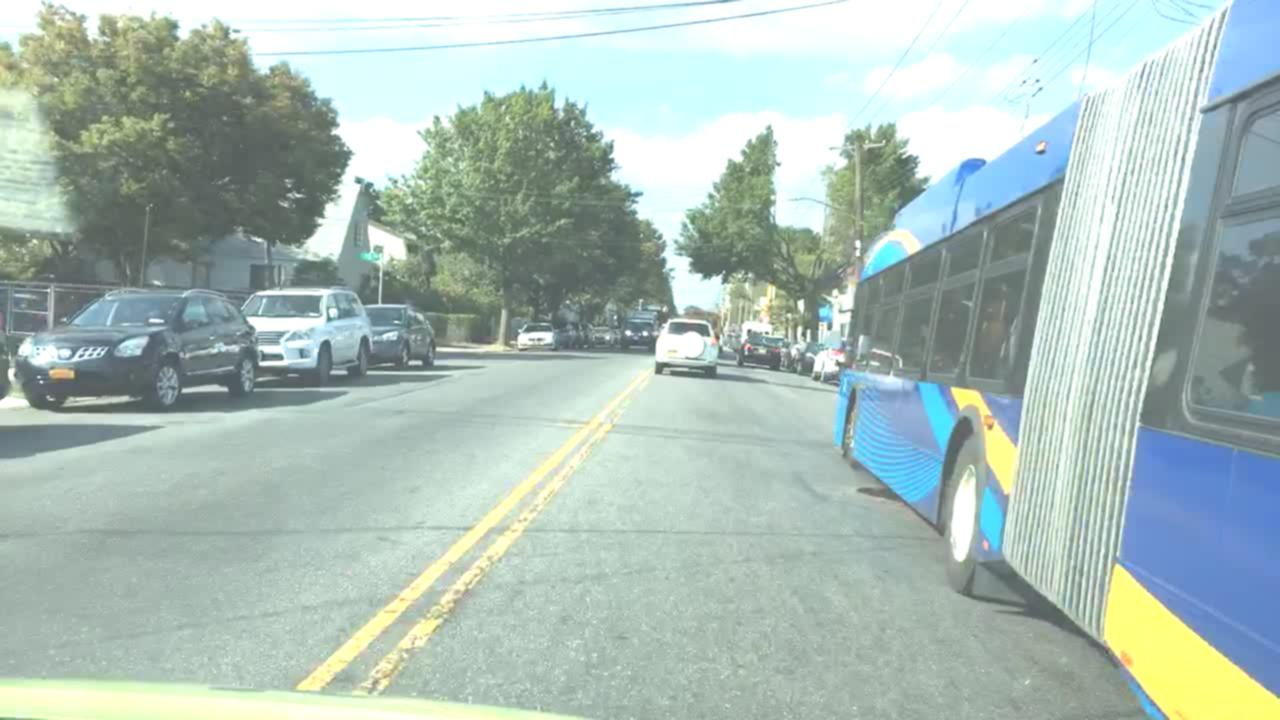Nissan: (53, 342, 75, 361)
